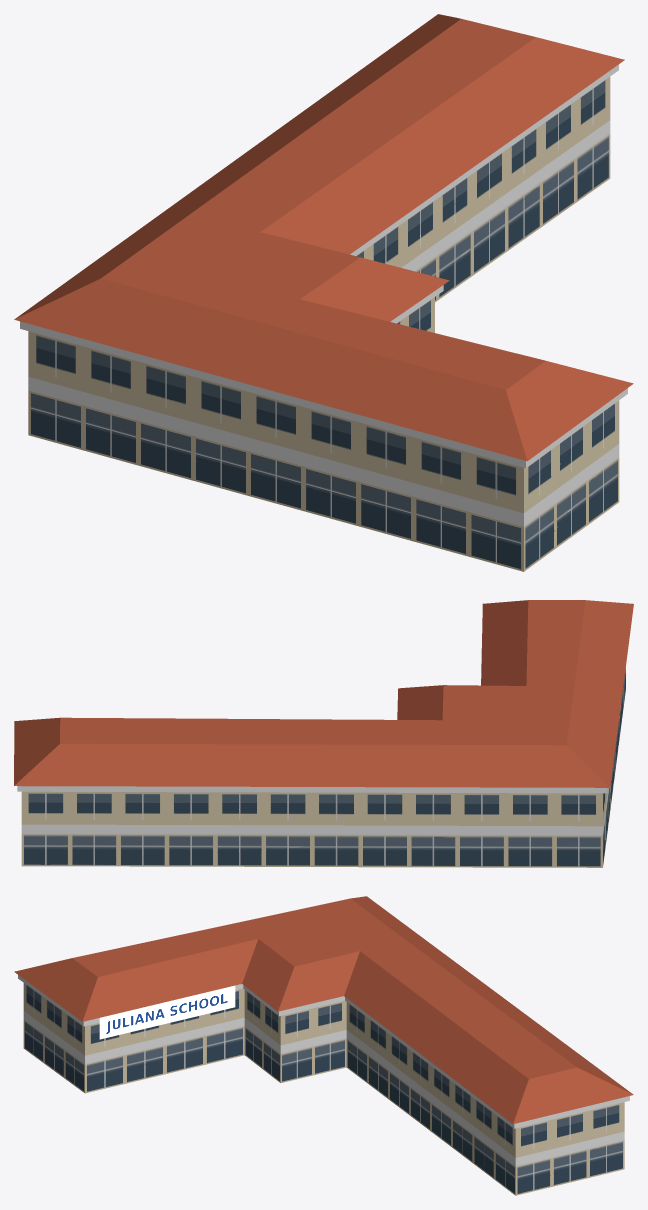
File: julianaschool.glb
The picture shows the model from 3 angles, top to bottom: view 1: azimuth 30°, elevation 25°; view 2: azimuth 150°, elevation 25°; view 3: azimuth 270°, elevation 25°; orthographic projection. The views are drawn at different scales.
Parts seen in each view (by area): view 1: julianaschool_lod0; view 2: julianaschool_lod0; view 3: julianaschool_lod0.
Part boxes in pixels (x1=…): julianaschool_lod0: x1=14, y1=14, x2=633, y2=571; julianaschool_lod0: x1=14, y1=600, x2=633, y2=867; julianaschool_lod0: x1=14, y1=896, x2=633, y2=1195.
Size of what is drawn, in the model's own units: 46.62 by 9.2 by 53.55.
5 materials, 3 textured.
